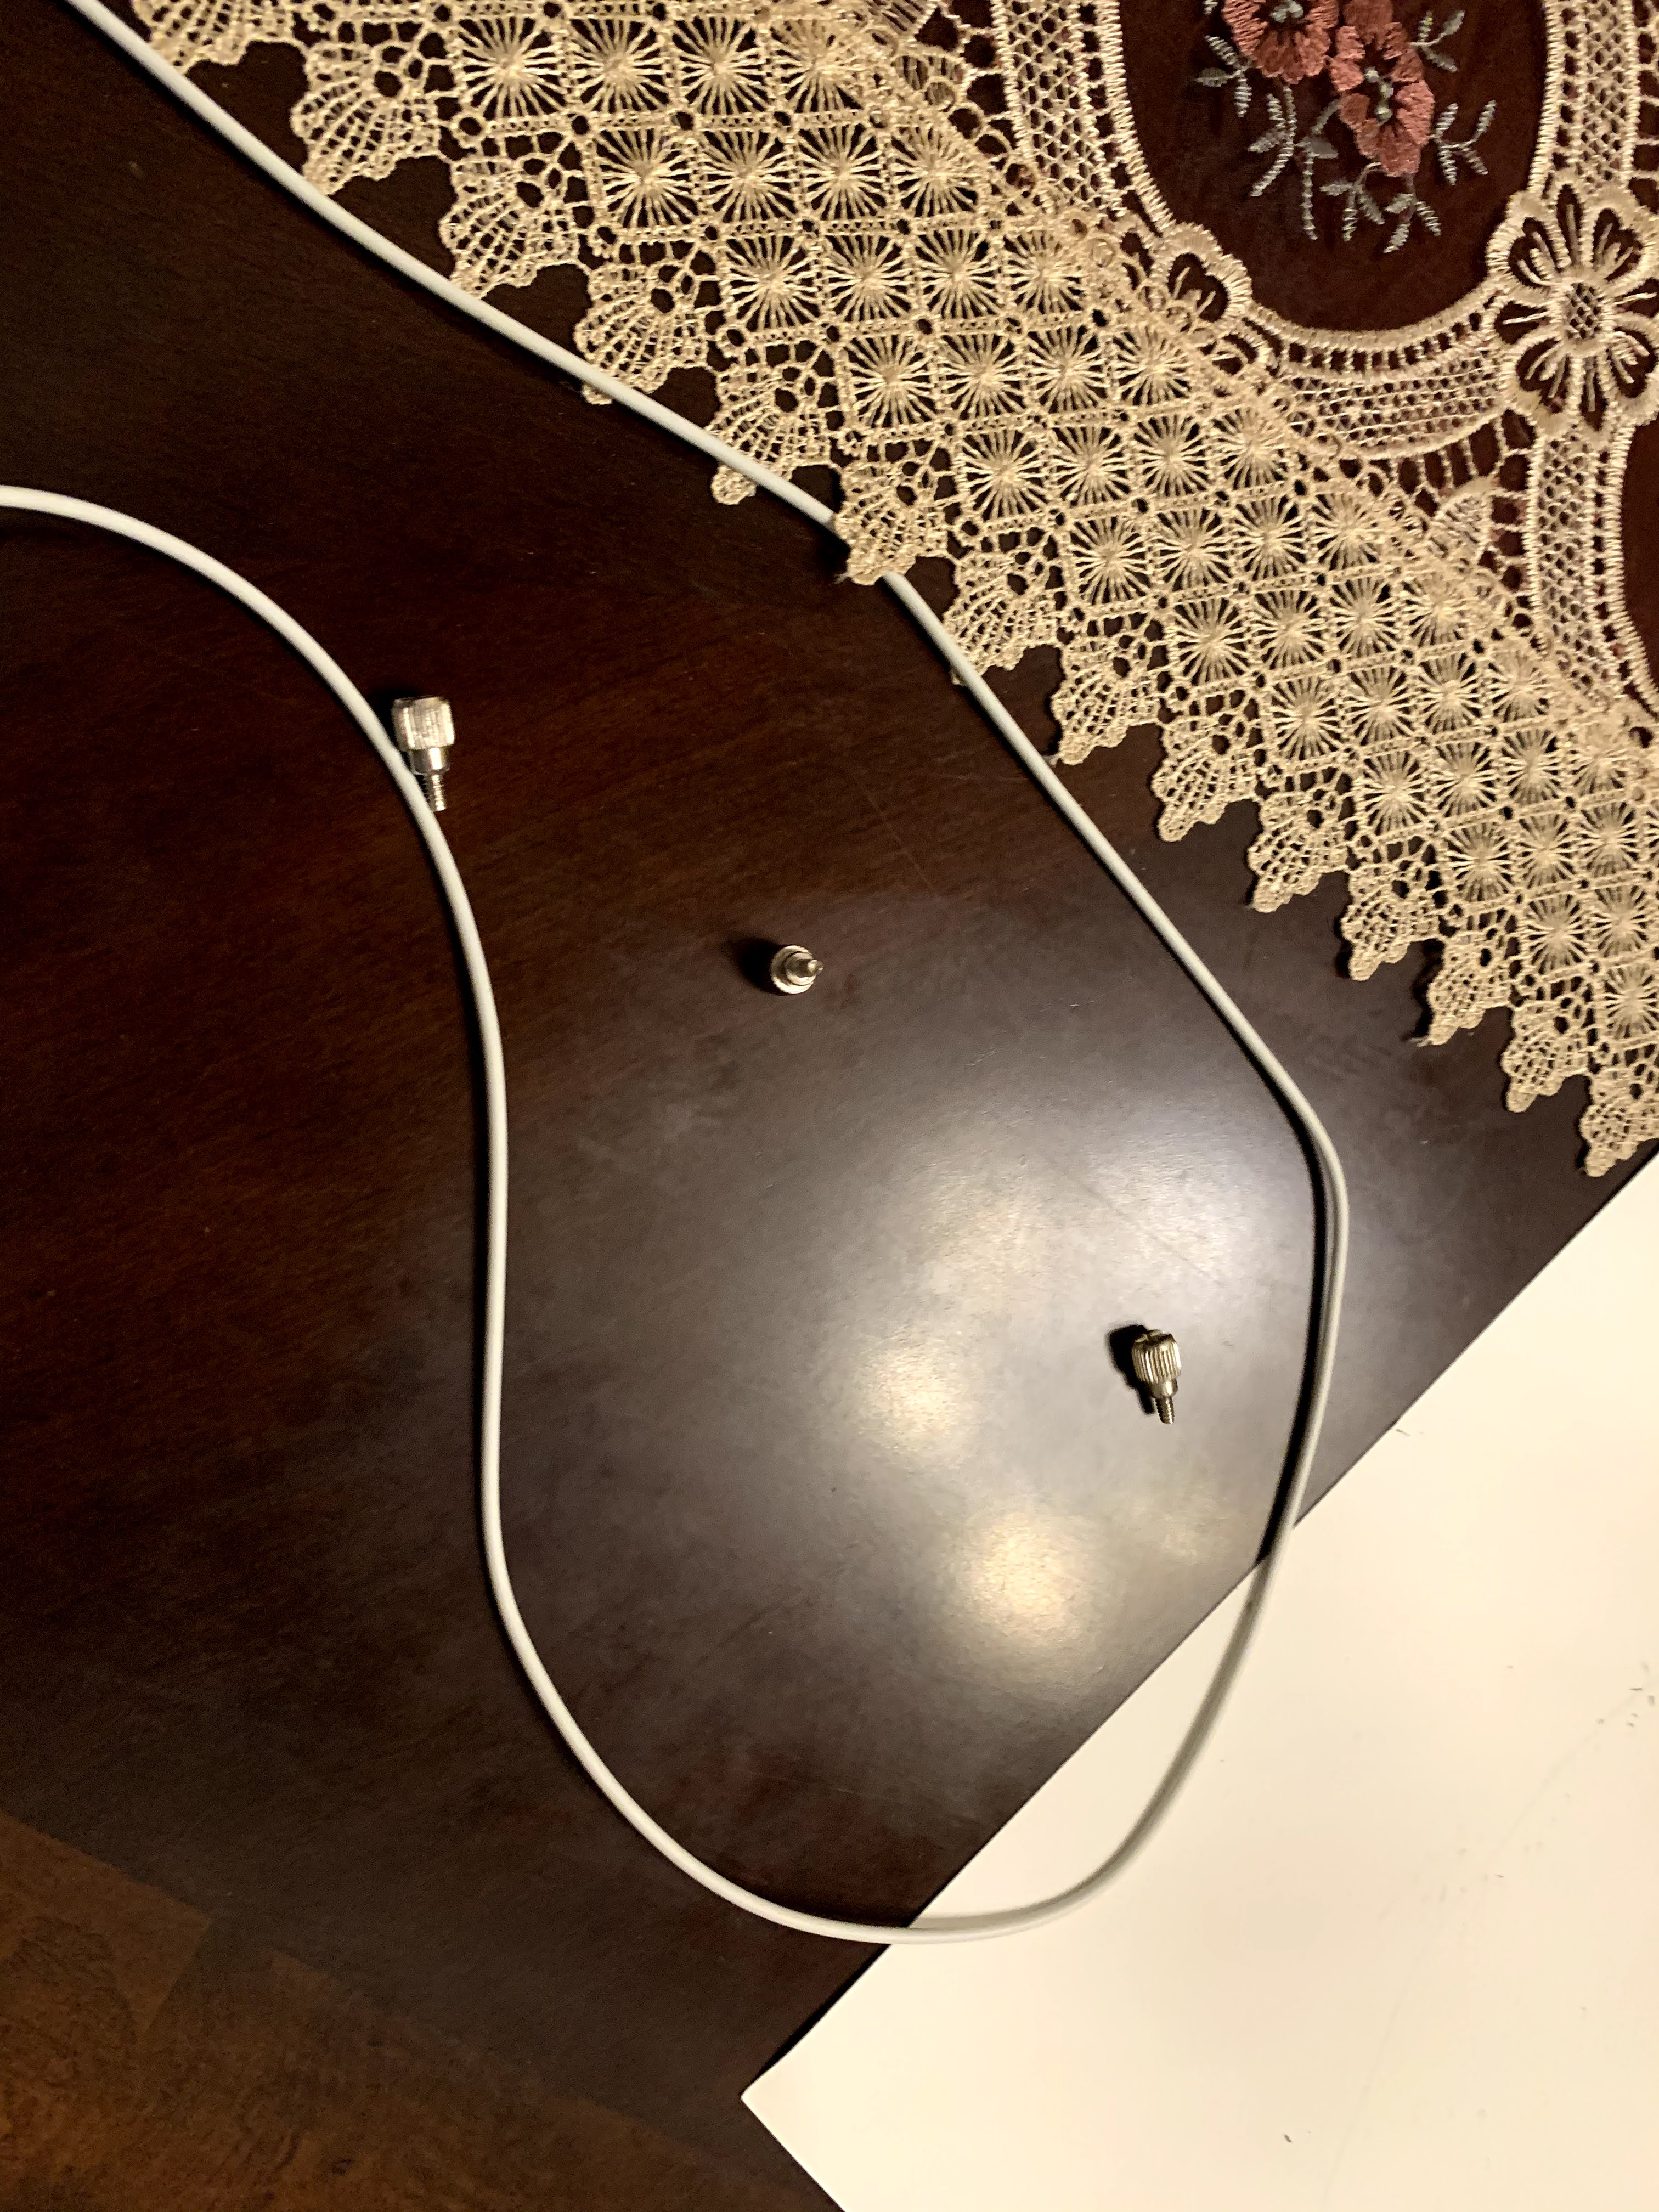Space-debris-small: (380, 662, 483, 834), (1114, 1315, 1195, 1444), (751, 920, 833, 1021)
